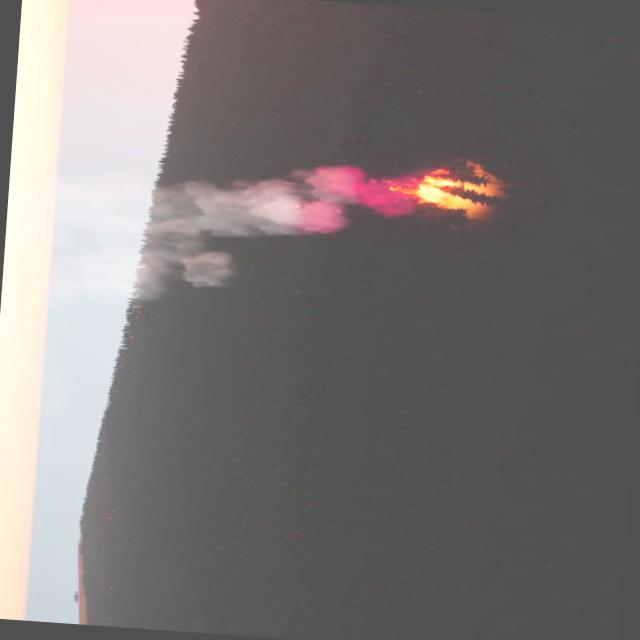fire: (395, 164, 474, 212)
smoke: (128, 147, 406, 314)
